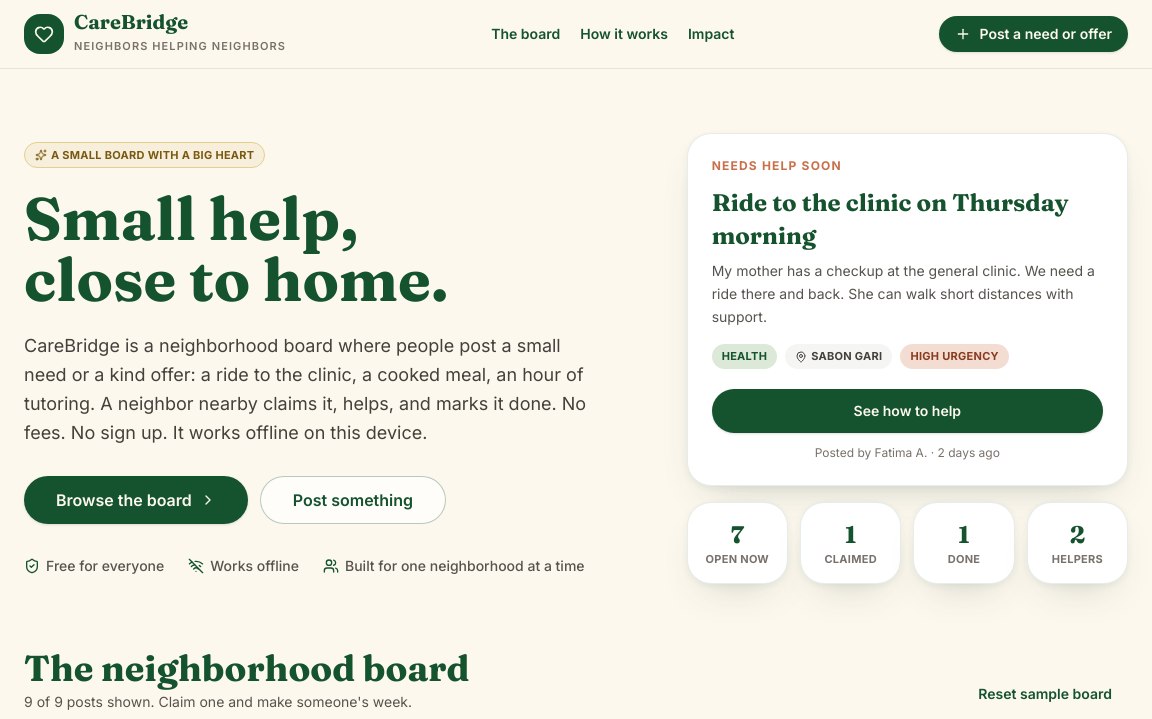
it: CareBridge app › publishes a valid post to the board
Click the button "Post a need or offer". click: (1034, 34)
box: [940, 16, 1128, 52]
(page scrolled)
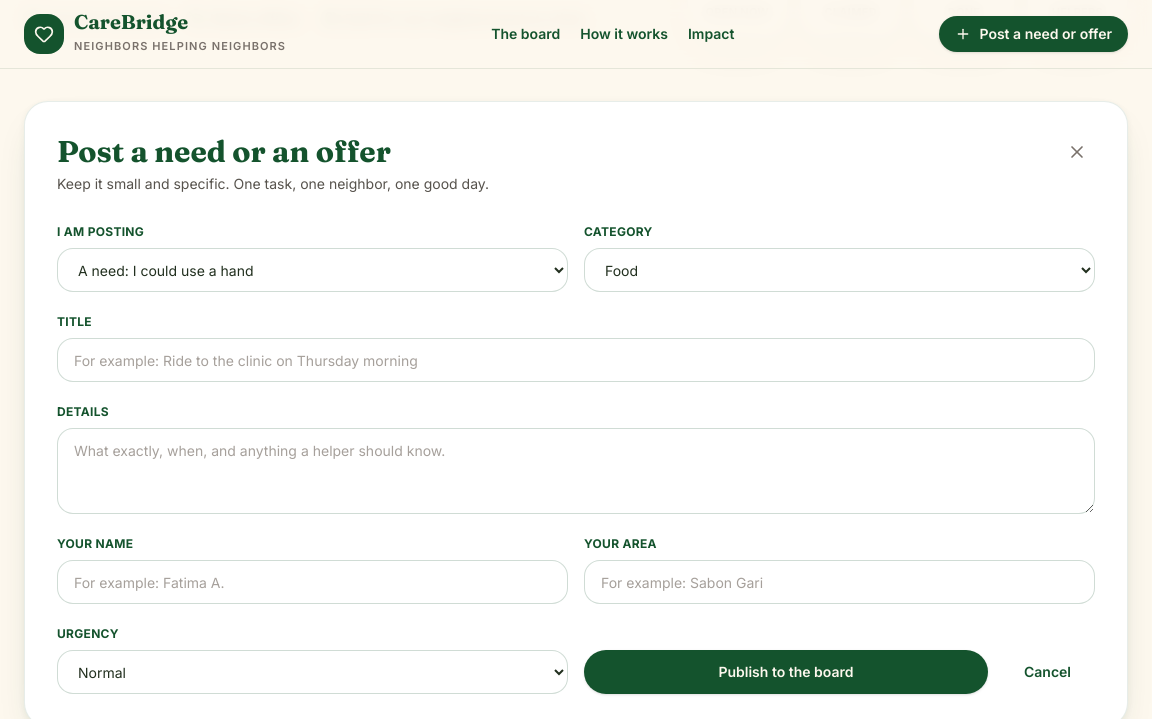
Type "Help carrying water on Saturday" into the field labelled "Title". click: (576, 360)
box: [57, 338, 1095, 382]
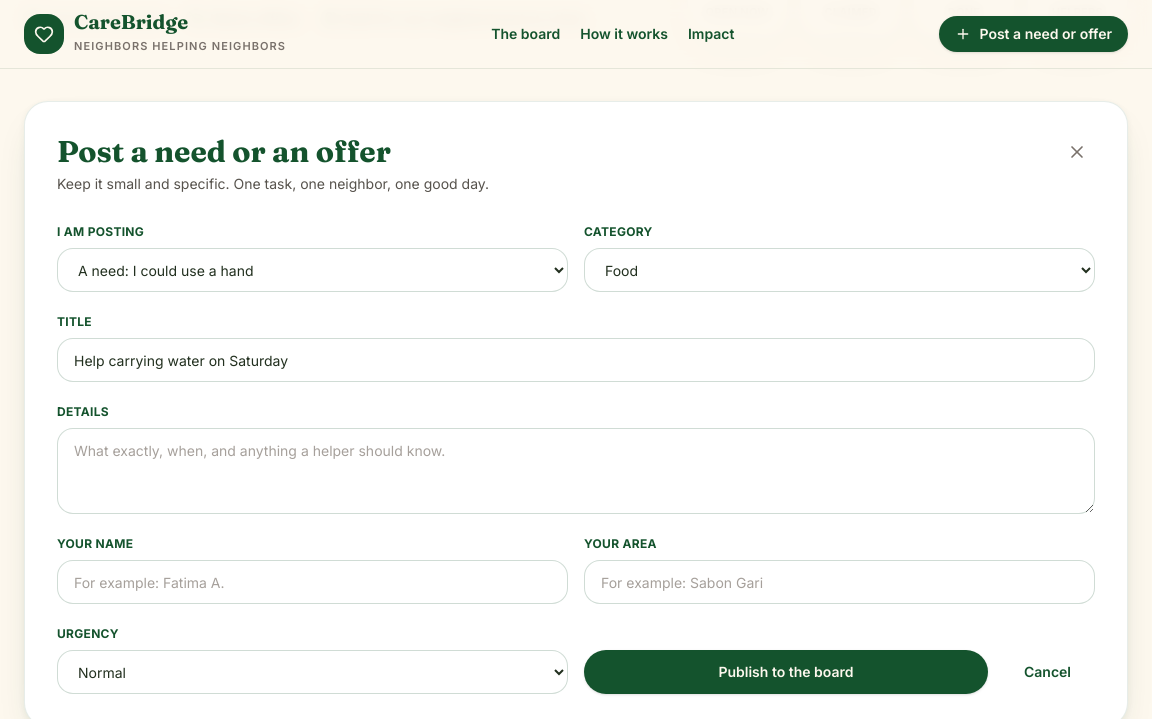
Type "We need help carrying two buckets of water from the borehole on Saturday morning." into the text box labelled "Details". click: (576, 471)
box: [57, 428, 1095, 514]
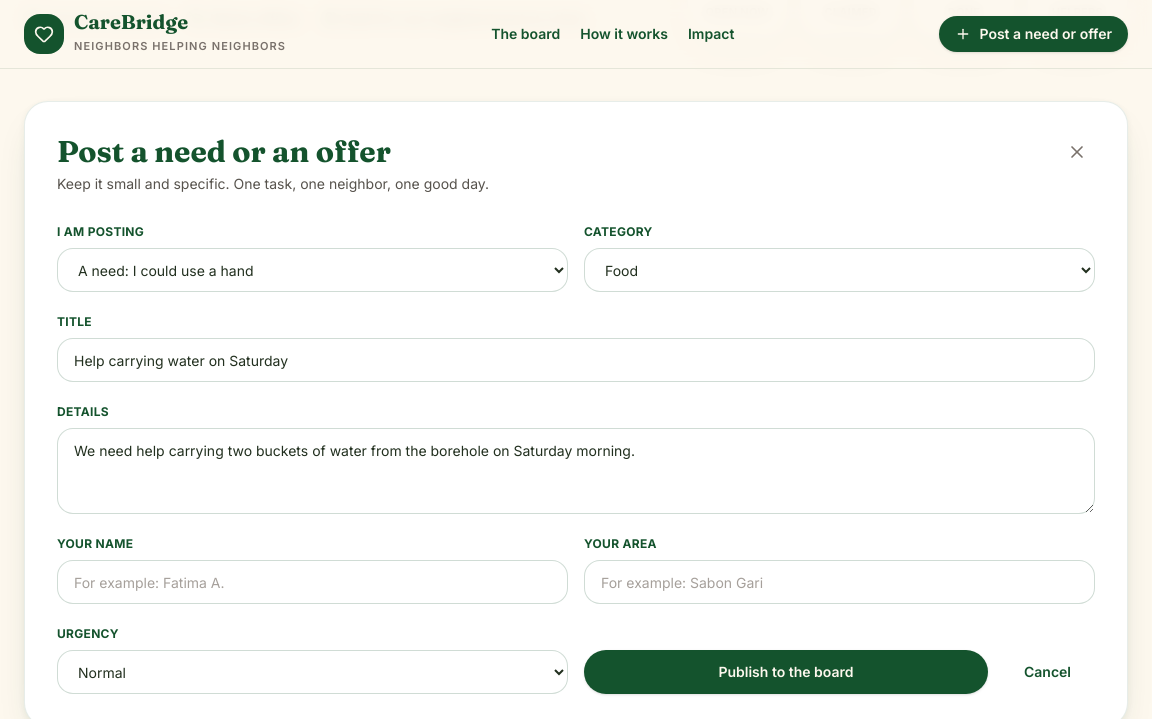
Type "Test Neighbor" into the field labelled "Your name". click: (312, 582)
box: [57, 560, 568, 604]
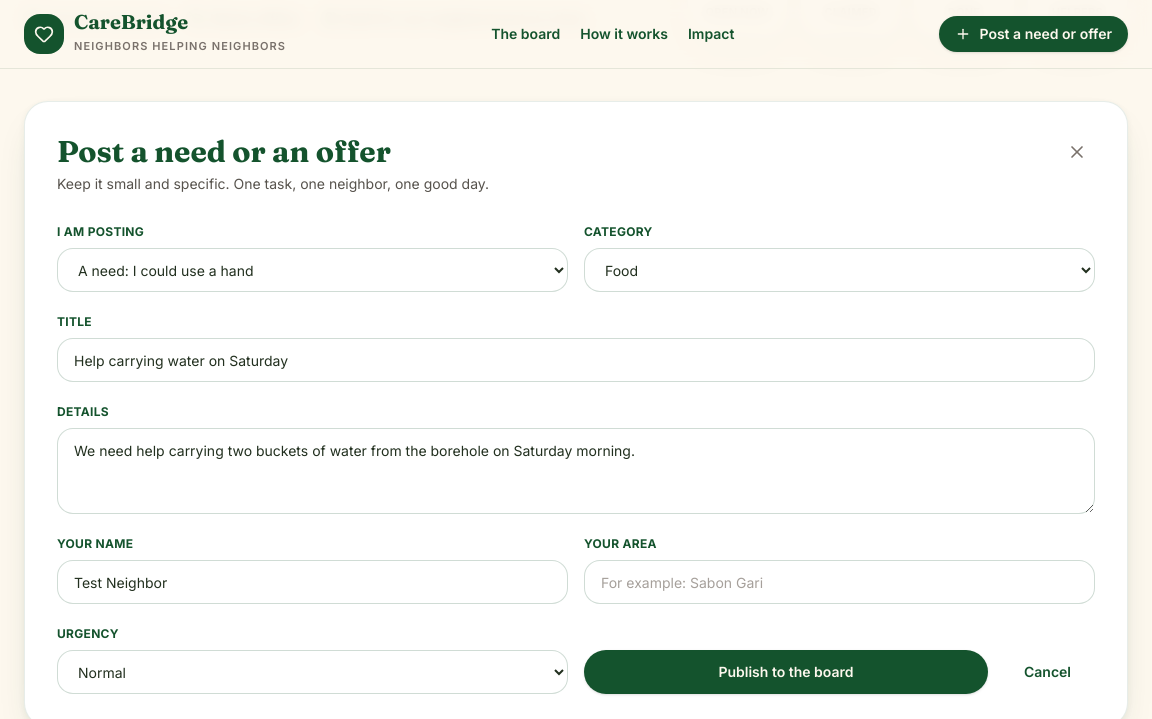
Type "Sabon Gari" into the field labelled "Your area". click: (840, 582)
box: [584, 560, 1095, 604]
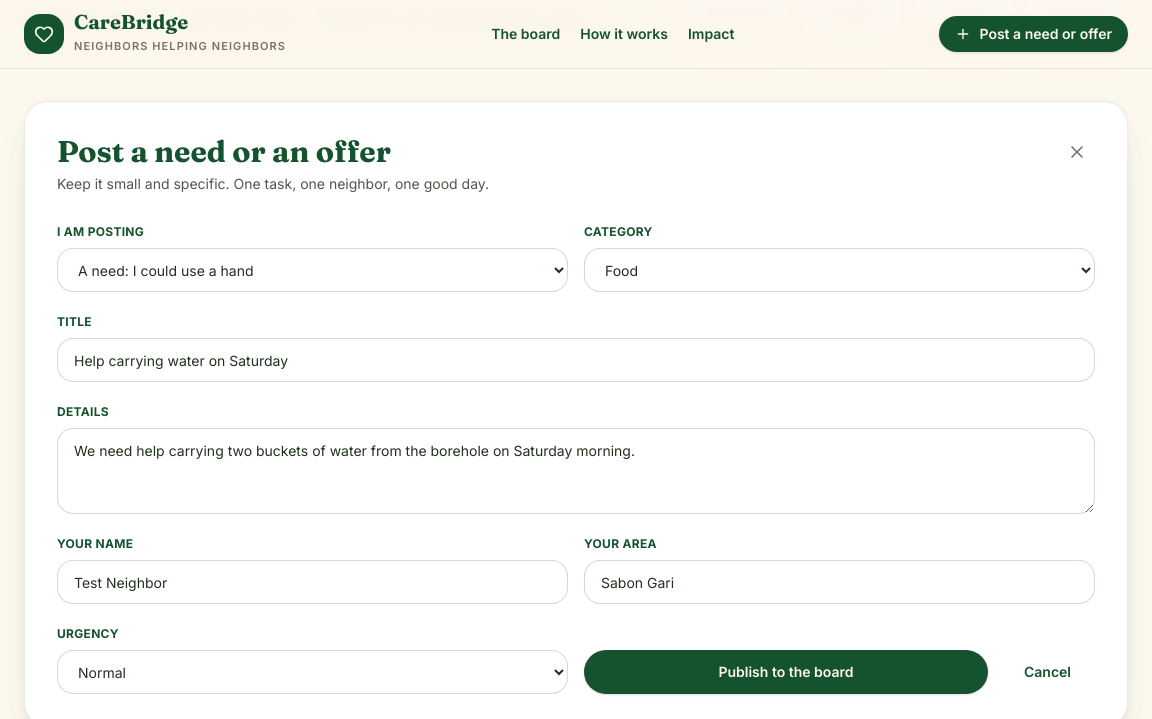
Click the button "Publish to the board". click: (786, 672)
box: [584, 650, 988, 694]
(page scrolled)
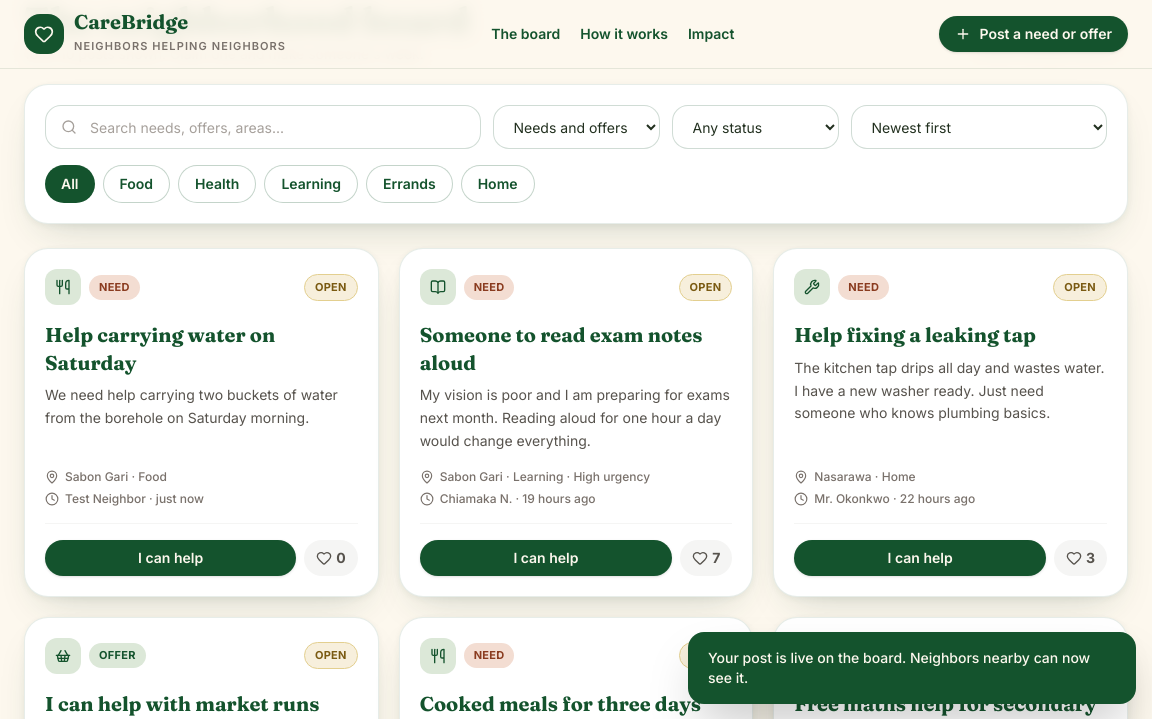
Expected: the heading "Help carrying water on Saturday" is shown, [45, 322, 275, 375]
